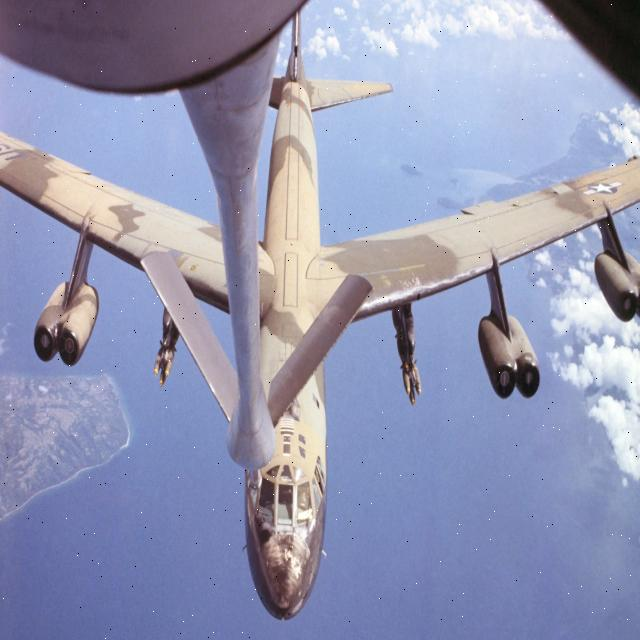B1: (0, 22, 639, 625)
